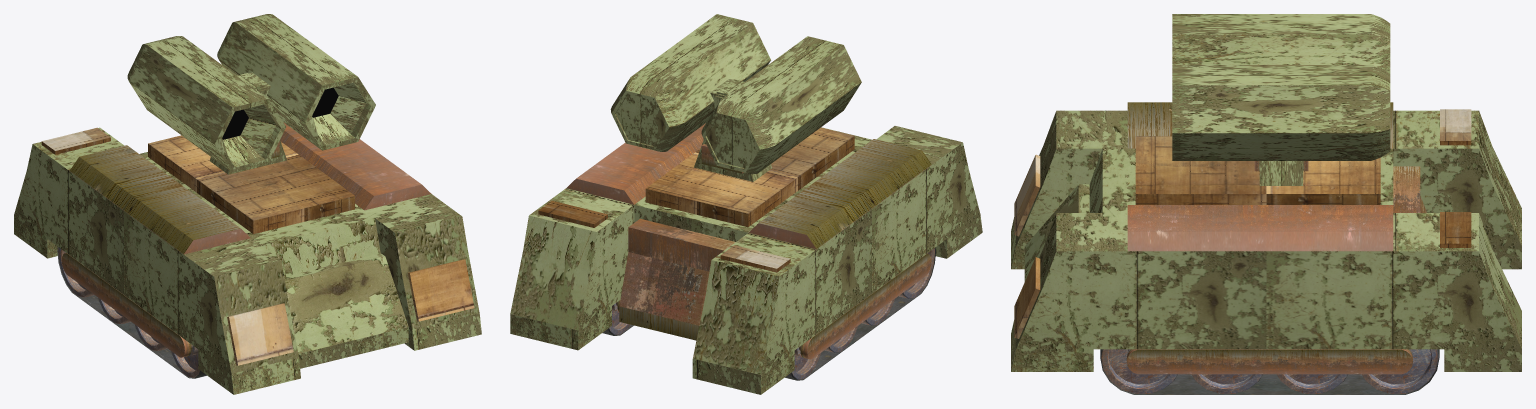
The model's file is Rocket_launcher.FBX.
3 views of the same model, side by side, from view 1: azimuth 30°, elevation 25°; view 2: azimuth 150°, elevation 25°; view 3: azimuth 270°, elevation 25° (orthographic). The views are drawn at different scales.
Visible parts, largest first — view 1: Box003, Cylinder021, Cylinder020, Cylinder011, Cylinder010, Box004, Cylinder005, Cylinder008; view 2: Box003, Cylinder021, Cylinder020, Cylinder011, Box004, Cylinder010, Cylinder008, Cylinder005; view 3: Box003, Cylinder020, Cylinder021, Cylinder013, Cylinder016, Cylinder018, Cylinder015, Box004, Cylinder017, Cylinder014.
Boxes of the visible parts, x1,y1,x2,y2 form: Box003: (14,122,481,394); Cylinder021: (127,36,285,172); Cylinder020: (217,14,375,150); Cylinder011: (61,253,191,357); Cylinder010: (57,247,206,378); Box004: (209,72,286,174); Cylinder005: (171,344,199,377); Cylinder008: (58,247,94,297); Box003: (510,123,982,394); Cylinder021: (701,36,861,174); Cylinder020: (610,14,770,151); Cylinder011: (800,253,931,359); Box004: (694,79,771,181); Cylinder010: (785,247,935,380); Cylinder008: (792,346,820,379); Cylinder005: (899,248,934,298); Box003: (1011,102,1521,371); Cylinder020: (1172,65,1390,160); Cylinder021: (1172,14,1390,73); Cylinder013: (1126,349,1412,374); Cylinder016: (1100,349,1439,394); Cylinder018: (1101,349,1177,393); Cylinder015: (1362,349,1438,393); Box004: (1259,161,1303,185); Cylinder017: (1191,374,1262,393); Cylinder014: (1277,374,1347,393).
Size of the model in its own units: 87.56 by 82.32 by 134.
